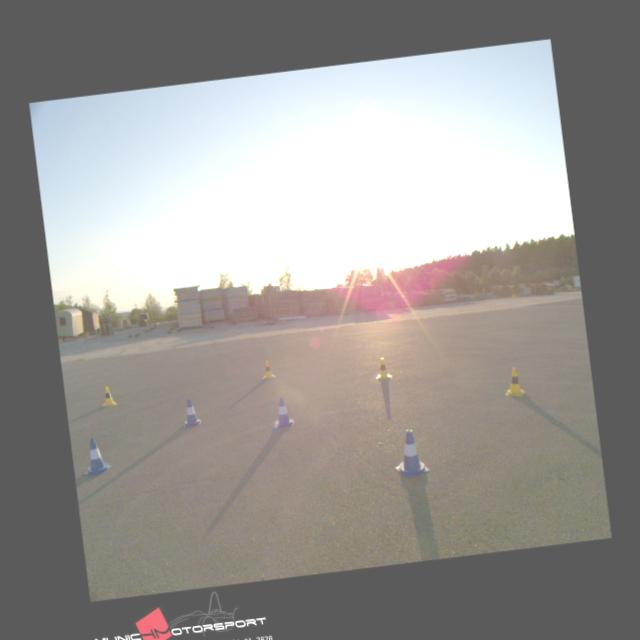blue_cone: (390, 427, 430, 478), (80, 435, 111, 474), (272, 395, 294, 427), (180, 398, 200, 426)
yellow_cone: (502, 366, 524, 397), (373, 357, 392, 379), (99, 385, 116, 406), (260, 359, 275, 378)
